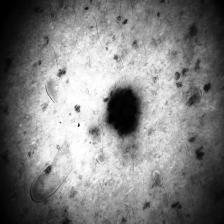Benign Marking or Mole: (98, 80, 145, 142)
